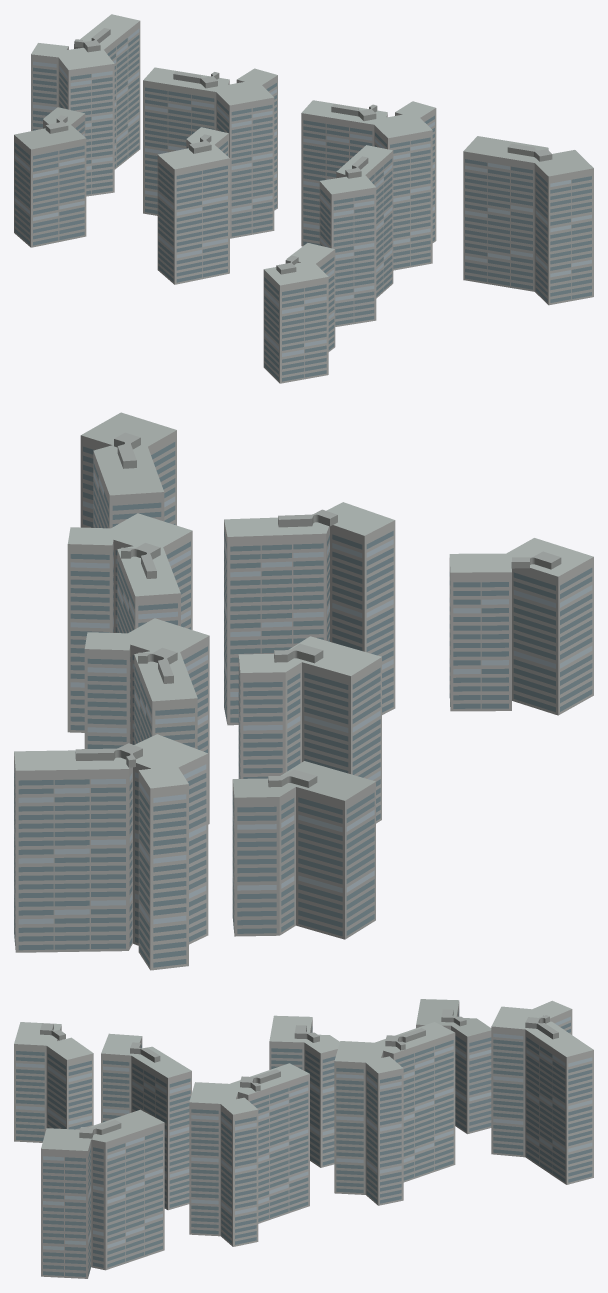
File: apt-a10025976.glb
The picture shows the model from 3 angles, top to bottom: view 1: azimuth 30°, elevation 25°; view 2: azimuth 150°, elevation 25°; view 3: azimuth 270°, elevation 25°; orthographic projection. The views are drawn at different scales.
Parts seen in each view (by area): view 1: apt-a10025976; view 2: apt-a10025976; view 3: apt-a10025976.
Boxes of the visible parts, x1,y1,x2,y2 form: apt-a10025976: (14, 14, 593, 383); apt-a10025976: (14, 412, 593, 970); apt-a10025976: (14, 999, 593, 1278).
Bounding box in the file's own units: 176 × 62 × 237.
